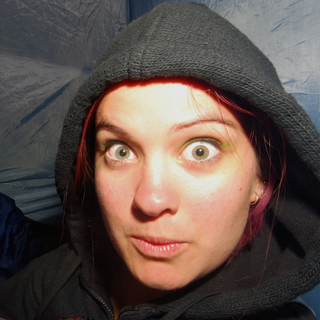eye: (176, 139, 225, 164), (102, 139, 142, 164)
